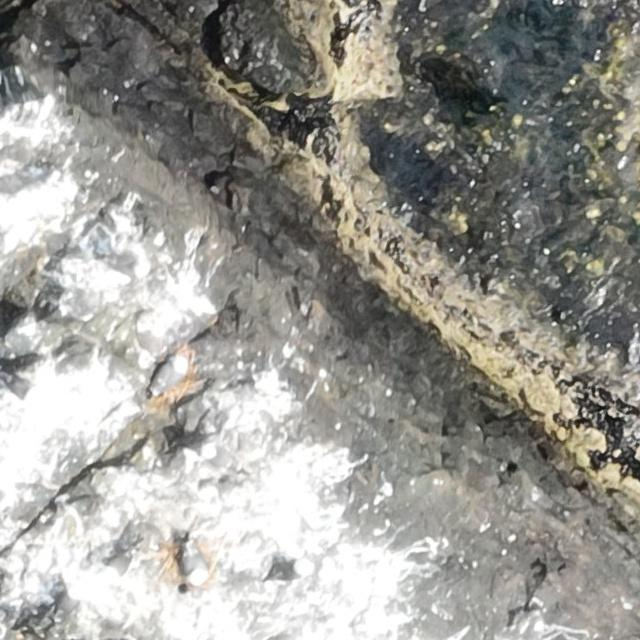umineko: (150, 357, 191, 397), (102, 545, 139, 584), (202, 443, 244, 475), (181, 544, 211, 588), (5, 373, 41, 406), (110, 252, 150, 280), (270, 559, 316, 583)
